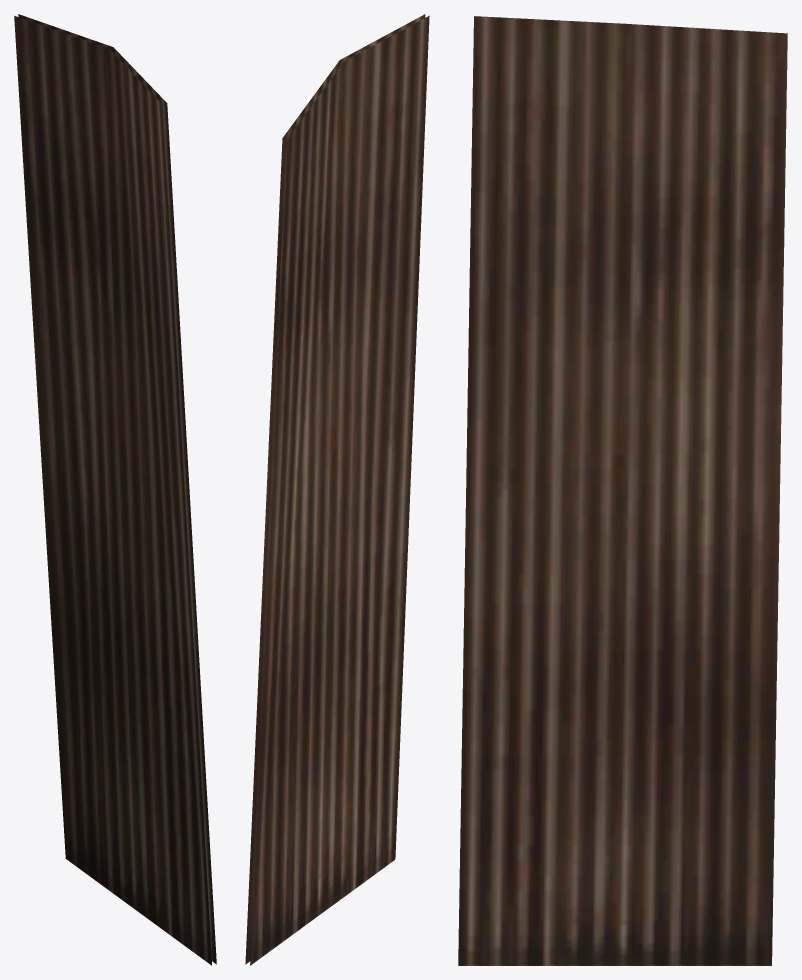
Rendered from platebrown007_plates_0_lev1.glb.
3 renders of one model, left to right at view 1: azimuth 30°, elevation 25°; view 2: azimuth 150°, elevation 25°; view 3: azimuth 270°, elevation 25°, orthographic. The views are drawn at different scales.
Parts seen in each view (by area): view 1: platebrown007_plates_0_lev1; view 2: platebrown007_plates_0_lev1; view 3: platebrown007_plates_0_lev1.
Boxes of the visible parts, x1,y1,x2,y2 form: platebrown007_plates_0_lev1: (14, 14, 216, 965); platebrown007_plates_0_lev1: (245, 14, 429, 965); platebrown007_plates_0_lev1: (458, 16, 787, 965).
Bounding box in the file's own units: 0.0568 × 0.9568 × 0.3077.
1 material, 1 textured.
